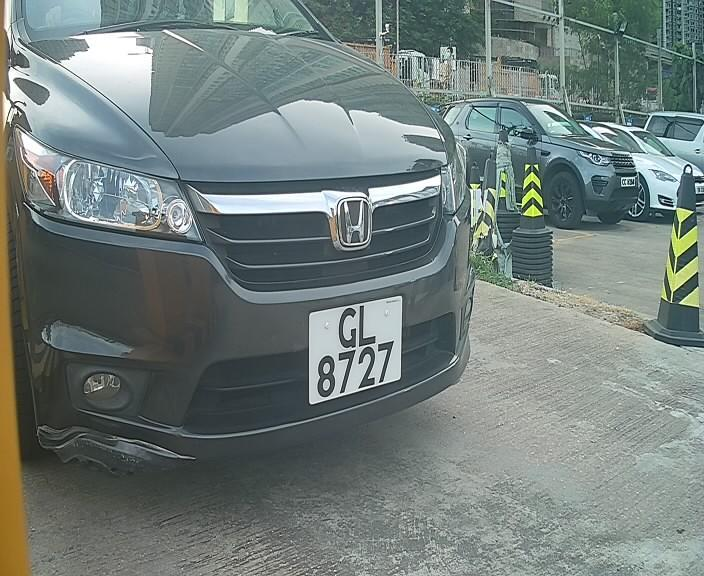privatecar: (4, 1, 490, 487)
